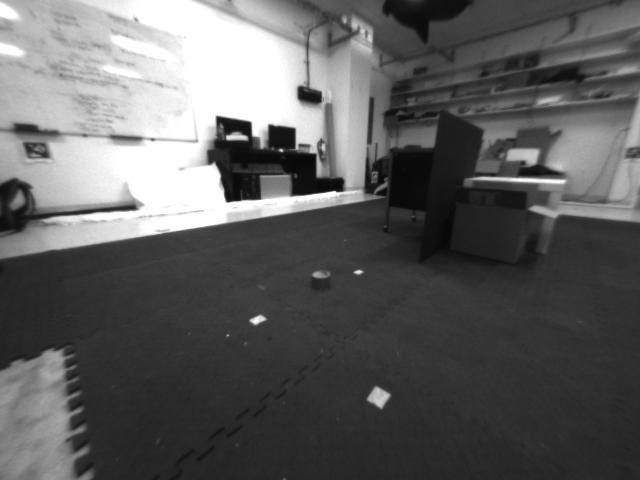dogtoy: (305, 260, 353, 303)
